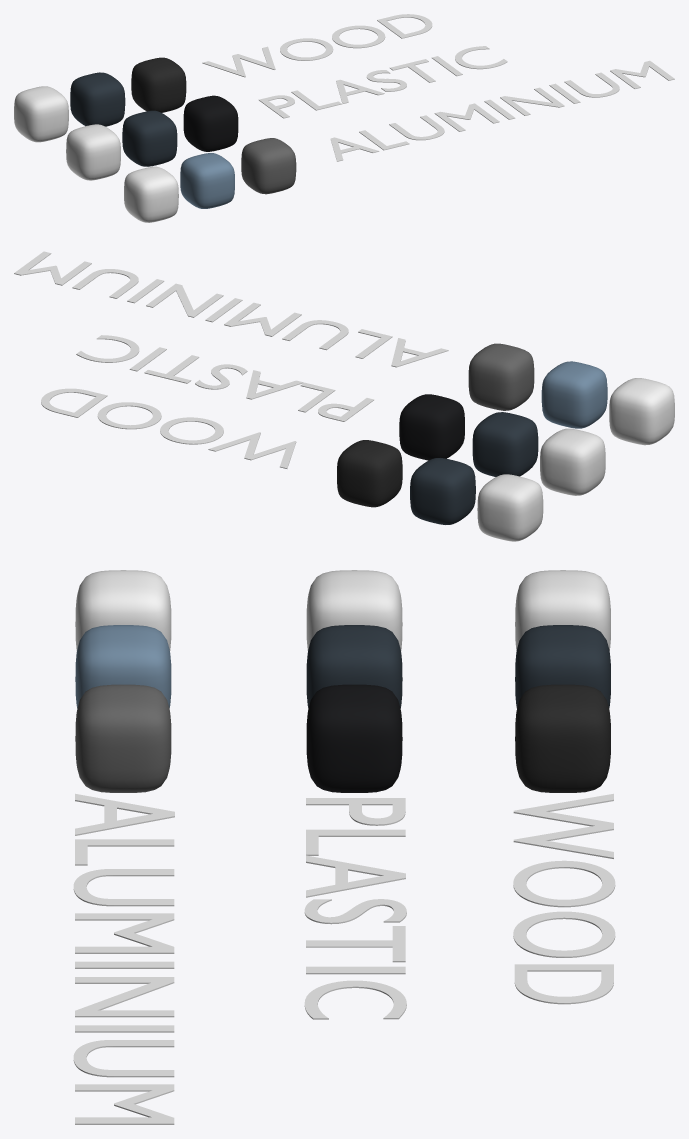
File: Materials.gltf
The picture shows the model from 3 angles, top to bottom: view 1: azimuth 30°, elevation 25°; view 2: azimuth 150°, elevation 25°; view 3: azimuth 270°, elevation 25°; orthographic projection. The views are drawn at different scales.
Visible parts, largest first — view 1: Text.002, Cube6, Cube7, Cube11, Cube5, Cube9, Cube1, Cube10, Cube3, Cube2, Text, Text.001; view 2: Text.002, Cube1, Cube10, Cube11, Cube3, Cube5, Cube9, Cube2, Cube7, Cube6, Text, Text.001; view 3: Text.002, Cube7, Cube11, Cube3, Text, Text.001, Cube10, Cube6, Cube2, Cube9, Cube5, Cube1.
Boxes of the visible parts, x1=… form: Text.002: x1=330, y1=60, x2=674, y2=161; Cube6: x1=122, y1=110, x2=177, y2=166; Cube7: x1=183, y1=95, x2=238, y2=151; Cube11: x1=241, y1=138, x2=296, y2=194; Cube5: x1=66, y1=124, x2=120, y2=180; Cube9: x1=124, y1=166, x2=178, y2=222; Cube1: x1=14, y1=86, x2=68, y2=142; Cube10: x1=180, y1=153, x2=234, y2=208; Cube3: x1=131, y1=57, x2=186, y2=112; Cube2: x1=70, y1=72, x2=125, y2=126; Text: x1=259, y1=46, x2=507, y2=118; Text.001: x1=202, y1=14, x2=432, y2=77; Text.002: x1=14, y1=251, x2=448, y2=367; Cube1: x1=477, y1=474, x2=543, y2=541; Cube10: x1=541, y1=361, x2=607, y2=428; Cube11: x1=468, y1=343, x2=534, y2=410; Cube3: x1=337, y1=440, x2=402, y2=507; Cube5: x1=540, y1=428, x2=605, y2=495; Cube9: x1=609, y1=378, x2=674, y2=445; Cube2: x1=410, y1=458, x2=475, y2=524; Cube7: x1=399, y1=394, x2=464, y2=460; Cube6: x1=472, y1=412, x2=538, y2=476; Text: x1=76, y1=335, x2=373, y2=421; Text.001: x1=41, y1=388, x2=296, y2=468; Text.002: x1=73, y1=793, x2=174, y2=1124; Cube7: x1=306, y1=684, x2=402, y2=792; Cube11: x1=75, y1=684, x2=171, y2=792; Cube3: x1=515, y1=684, x2=610, y2=792; Text: x1=304, y1=798, x2=406, y2=1019; Text.001: x1=513, y1=793, x2=615, y2=1004; Cube10: x1=75, y1=625, x2=171, y2=708; Cube6: x1=306, y1=625, x2=402, y2=708; Cube2: x1=515, y1=625, x2=610, y2=708; Cube9: x1=75, y1=570, x2=171, y2=651; Cube5: x1=306, y1=570, x2=402, y2=650; Cube1: x1=515, y1=570, x2=610, y2=650.
Bounding box in the file's own units: 0.6405 × 0.05 × 0.2824.
